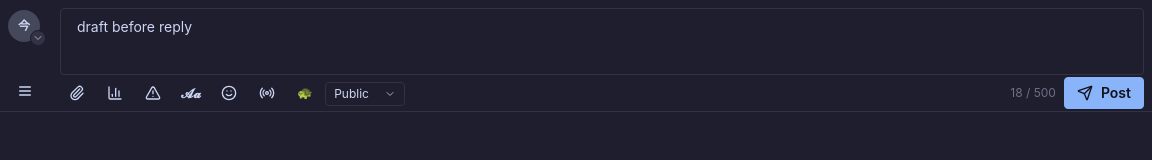
ComposeAreaController › ignores a compose result after an external target replaces its draft
Click the button named "Slow target transform". click: (305, 93)
box: [288,81,321,105]
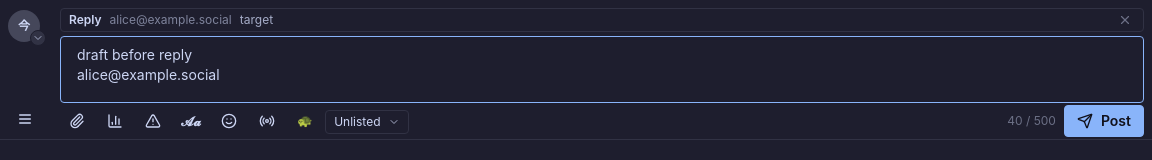
Result: the text "Reply" is shown at [69,12,102,28]
